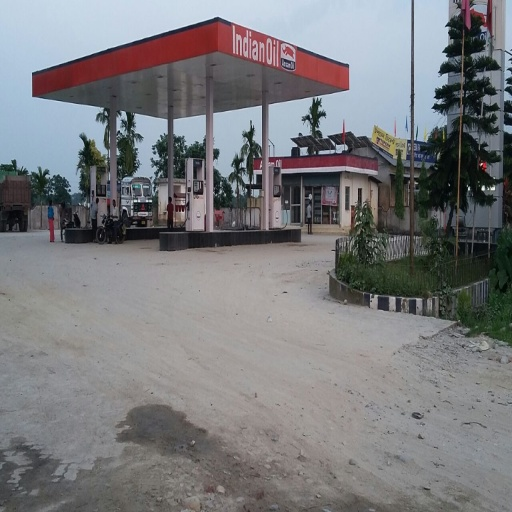roof: (31, 19, 351, 118)
